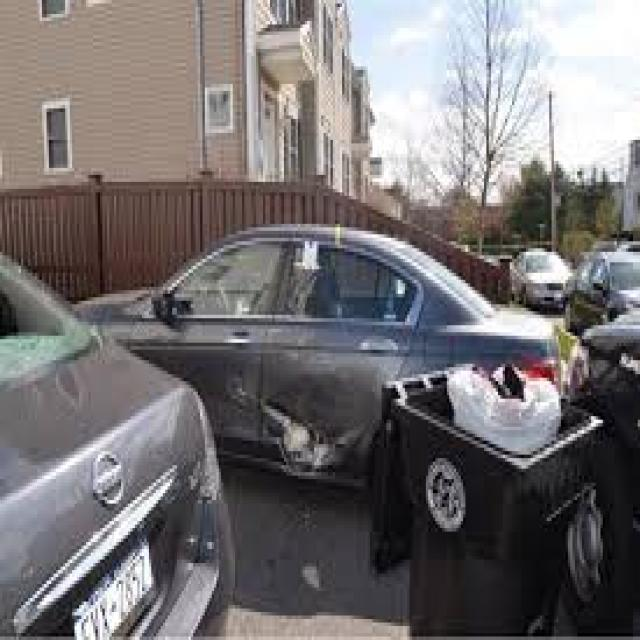moderate: (244, 234, 337, 485)
